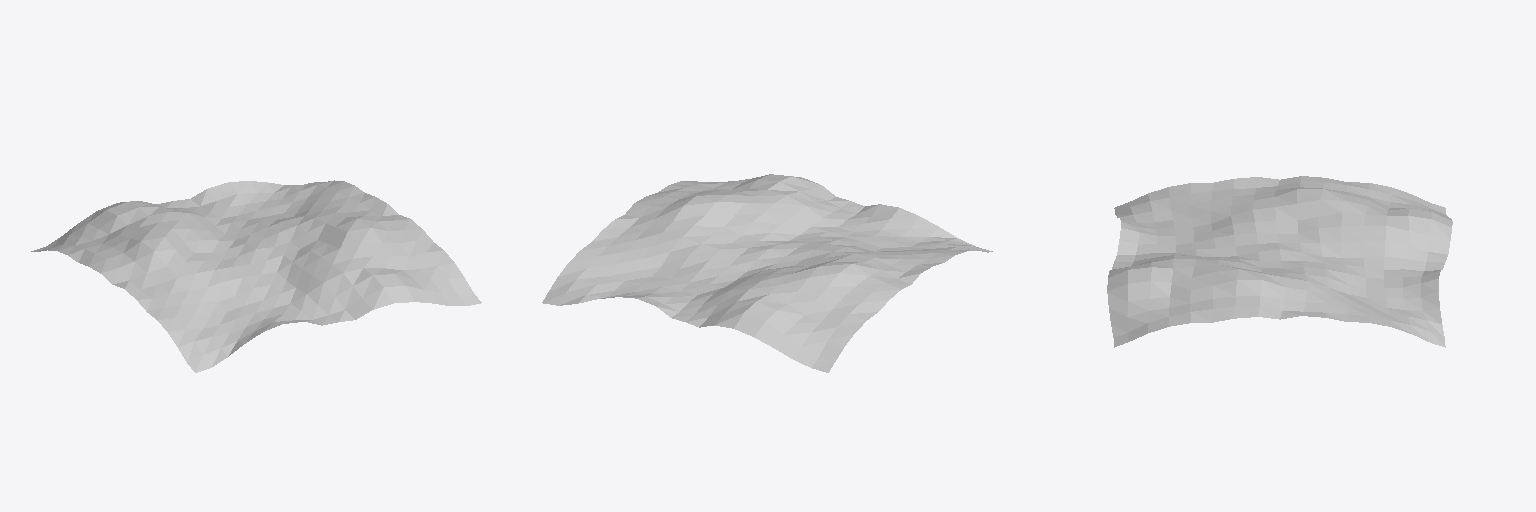
File: water_000085.obj
The picture shows the model from 3 angles: view 1: azimuth 30°, elevation 25°; view 2: azimuth 150°, elevation 25°; view 3: azimuth 270°, elevation 25°; orthographic projection.
Parts seen in each view (by area): view 1: Plan.003_Plan.001; view 2: Plan.003_Plan.001; view 3: Plan.003_Plan.001.
Boxes of the visible parts, x1=… form: Plan.003_Plan.001: x1=31, y1=180, x2=481, y2=372; Plan.003_Plan.001: x1=542, y1=174, x2=992, y2=372; Plan.003_Plan.001: x1=1107, y1=176, x2=1452, y2=347.
Bounding box in the file's own units: 60764 × 8700 × 62896.